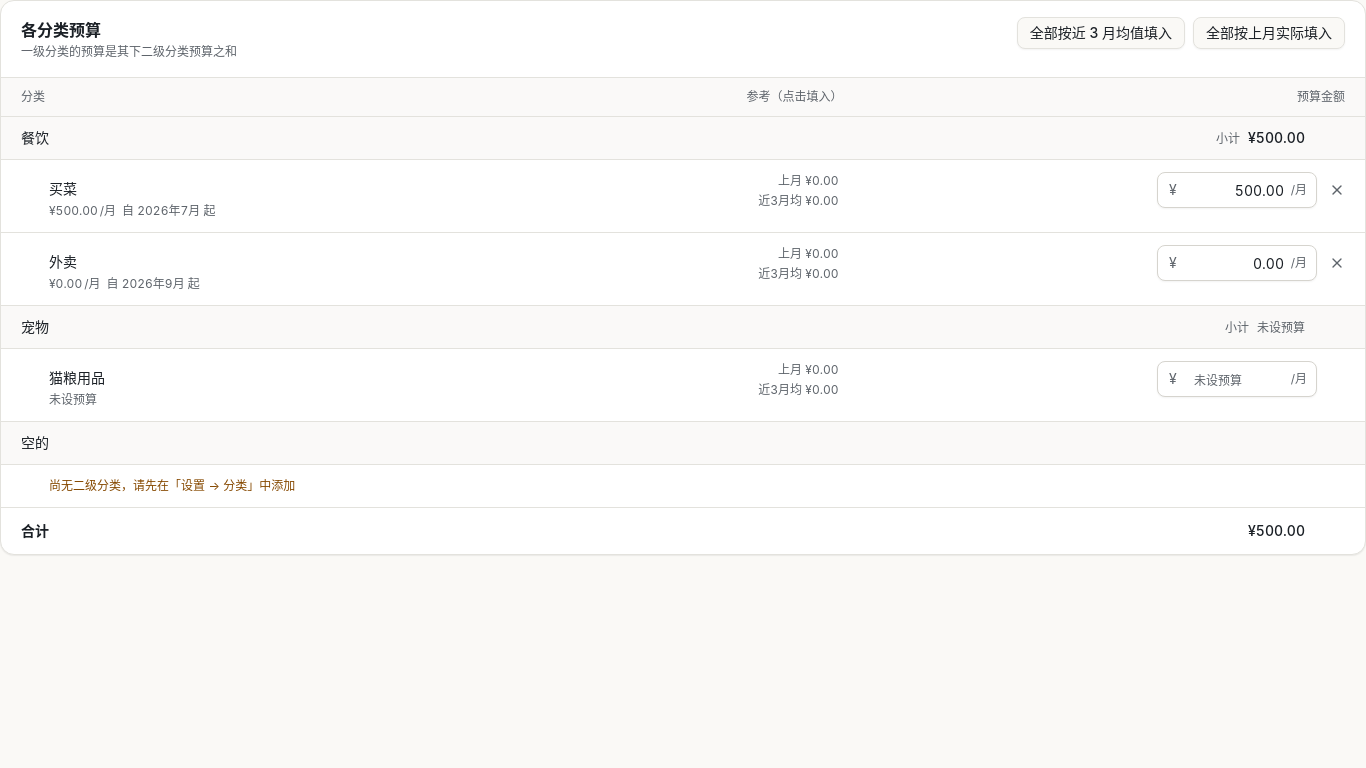
Test: BudgetTable › clears a budget to null, sets zero as a value, and updates the subtotal
Click the button named "清空「买菜」的预算". click: click(1337, 190)
box: top-left (1321, 174), bottom-right (1353, 206)
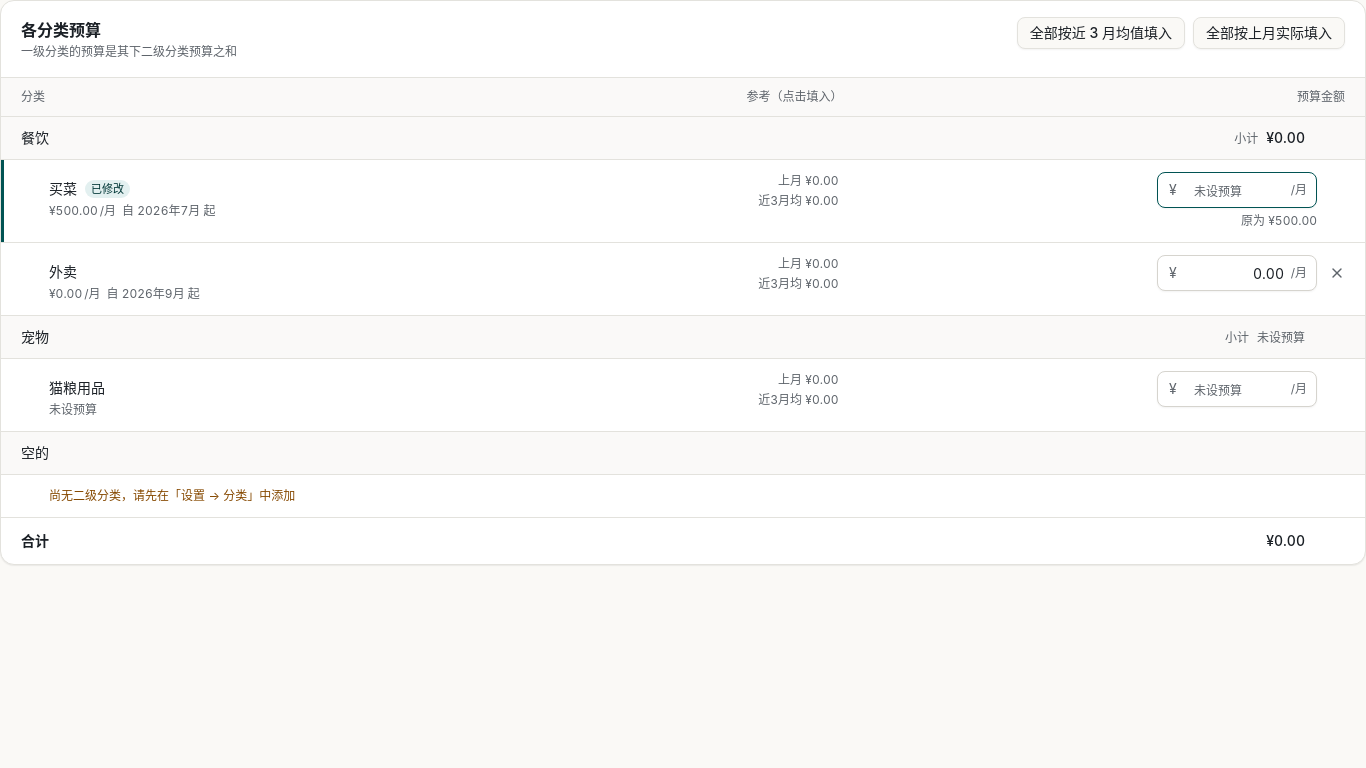
Type "0" into the field with placeholder "未设预算" in the row of "猫粮用品". click: (1237, 389)
box: top-left (1157, 371), bottom-right (1317, 407)
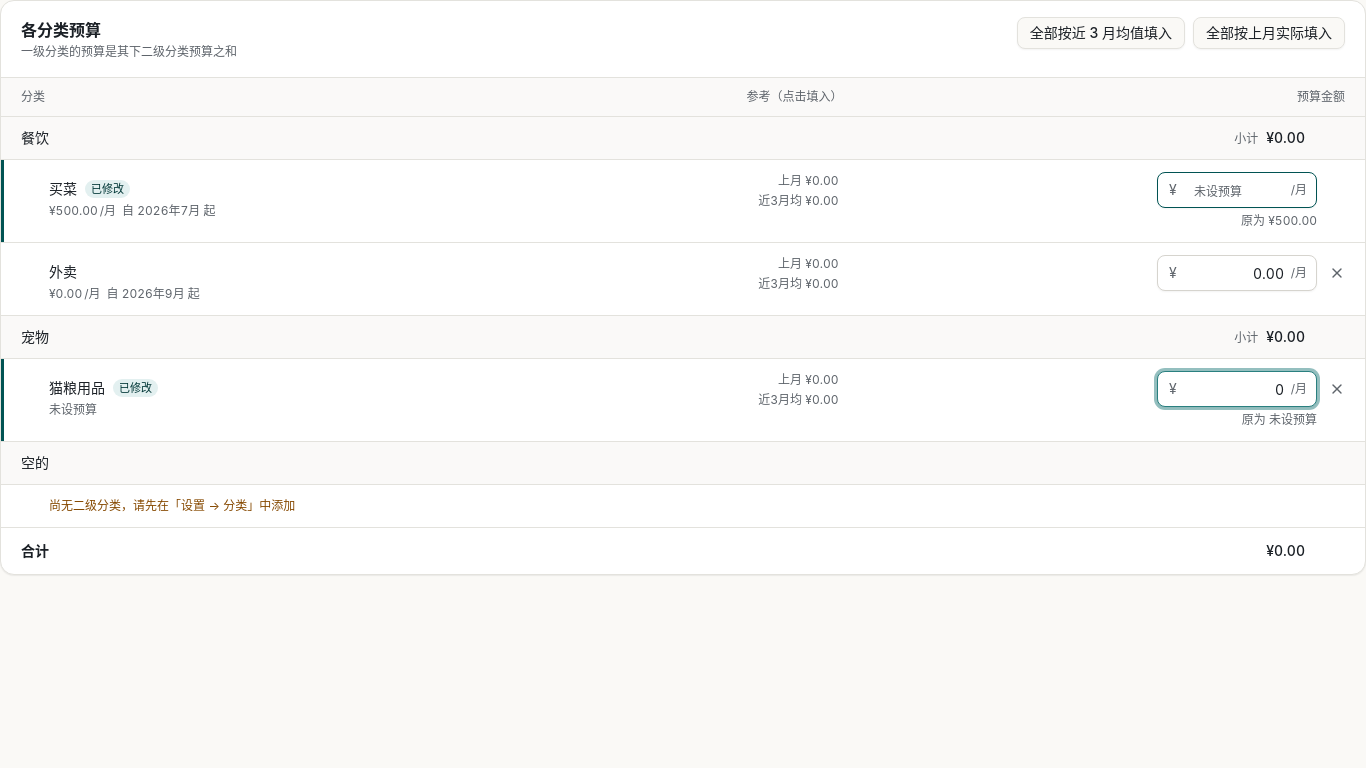
Result: the text "原为 ¥500.00" is shown at top-left (1241, 212), bottom-right (1317, 230)
Result: the text "¥0.00" in the row of "餐饮" is shown at top-left (1266, 129), bottom-right (1305, 146)
Result: the text "原为 未设预算" is shown at top-left (1242, 411), bottom-right (1317, 429)
